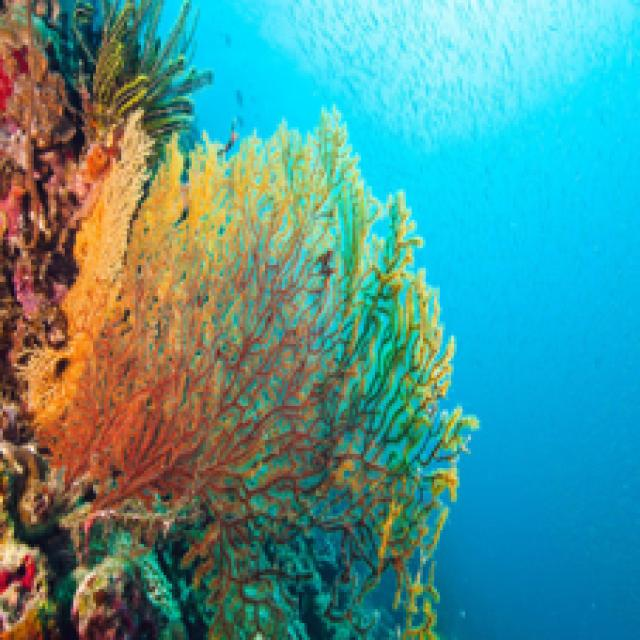Healthy: (40, 114, 477, 638)
